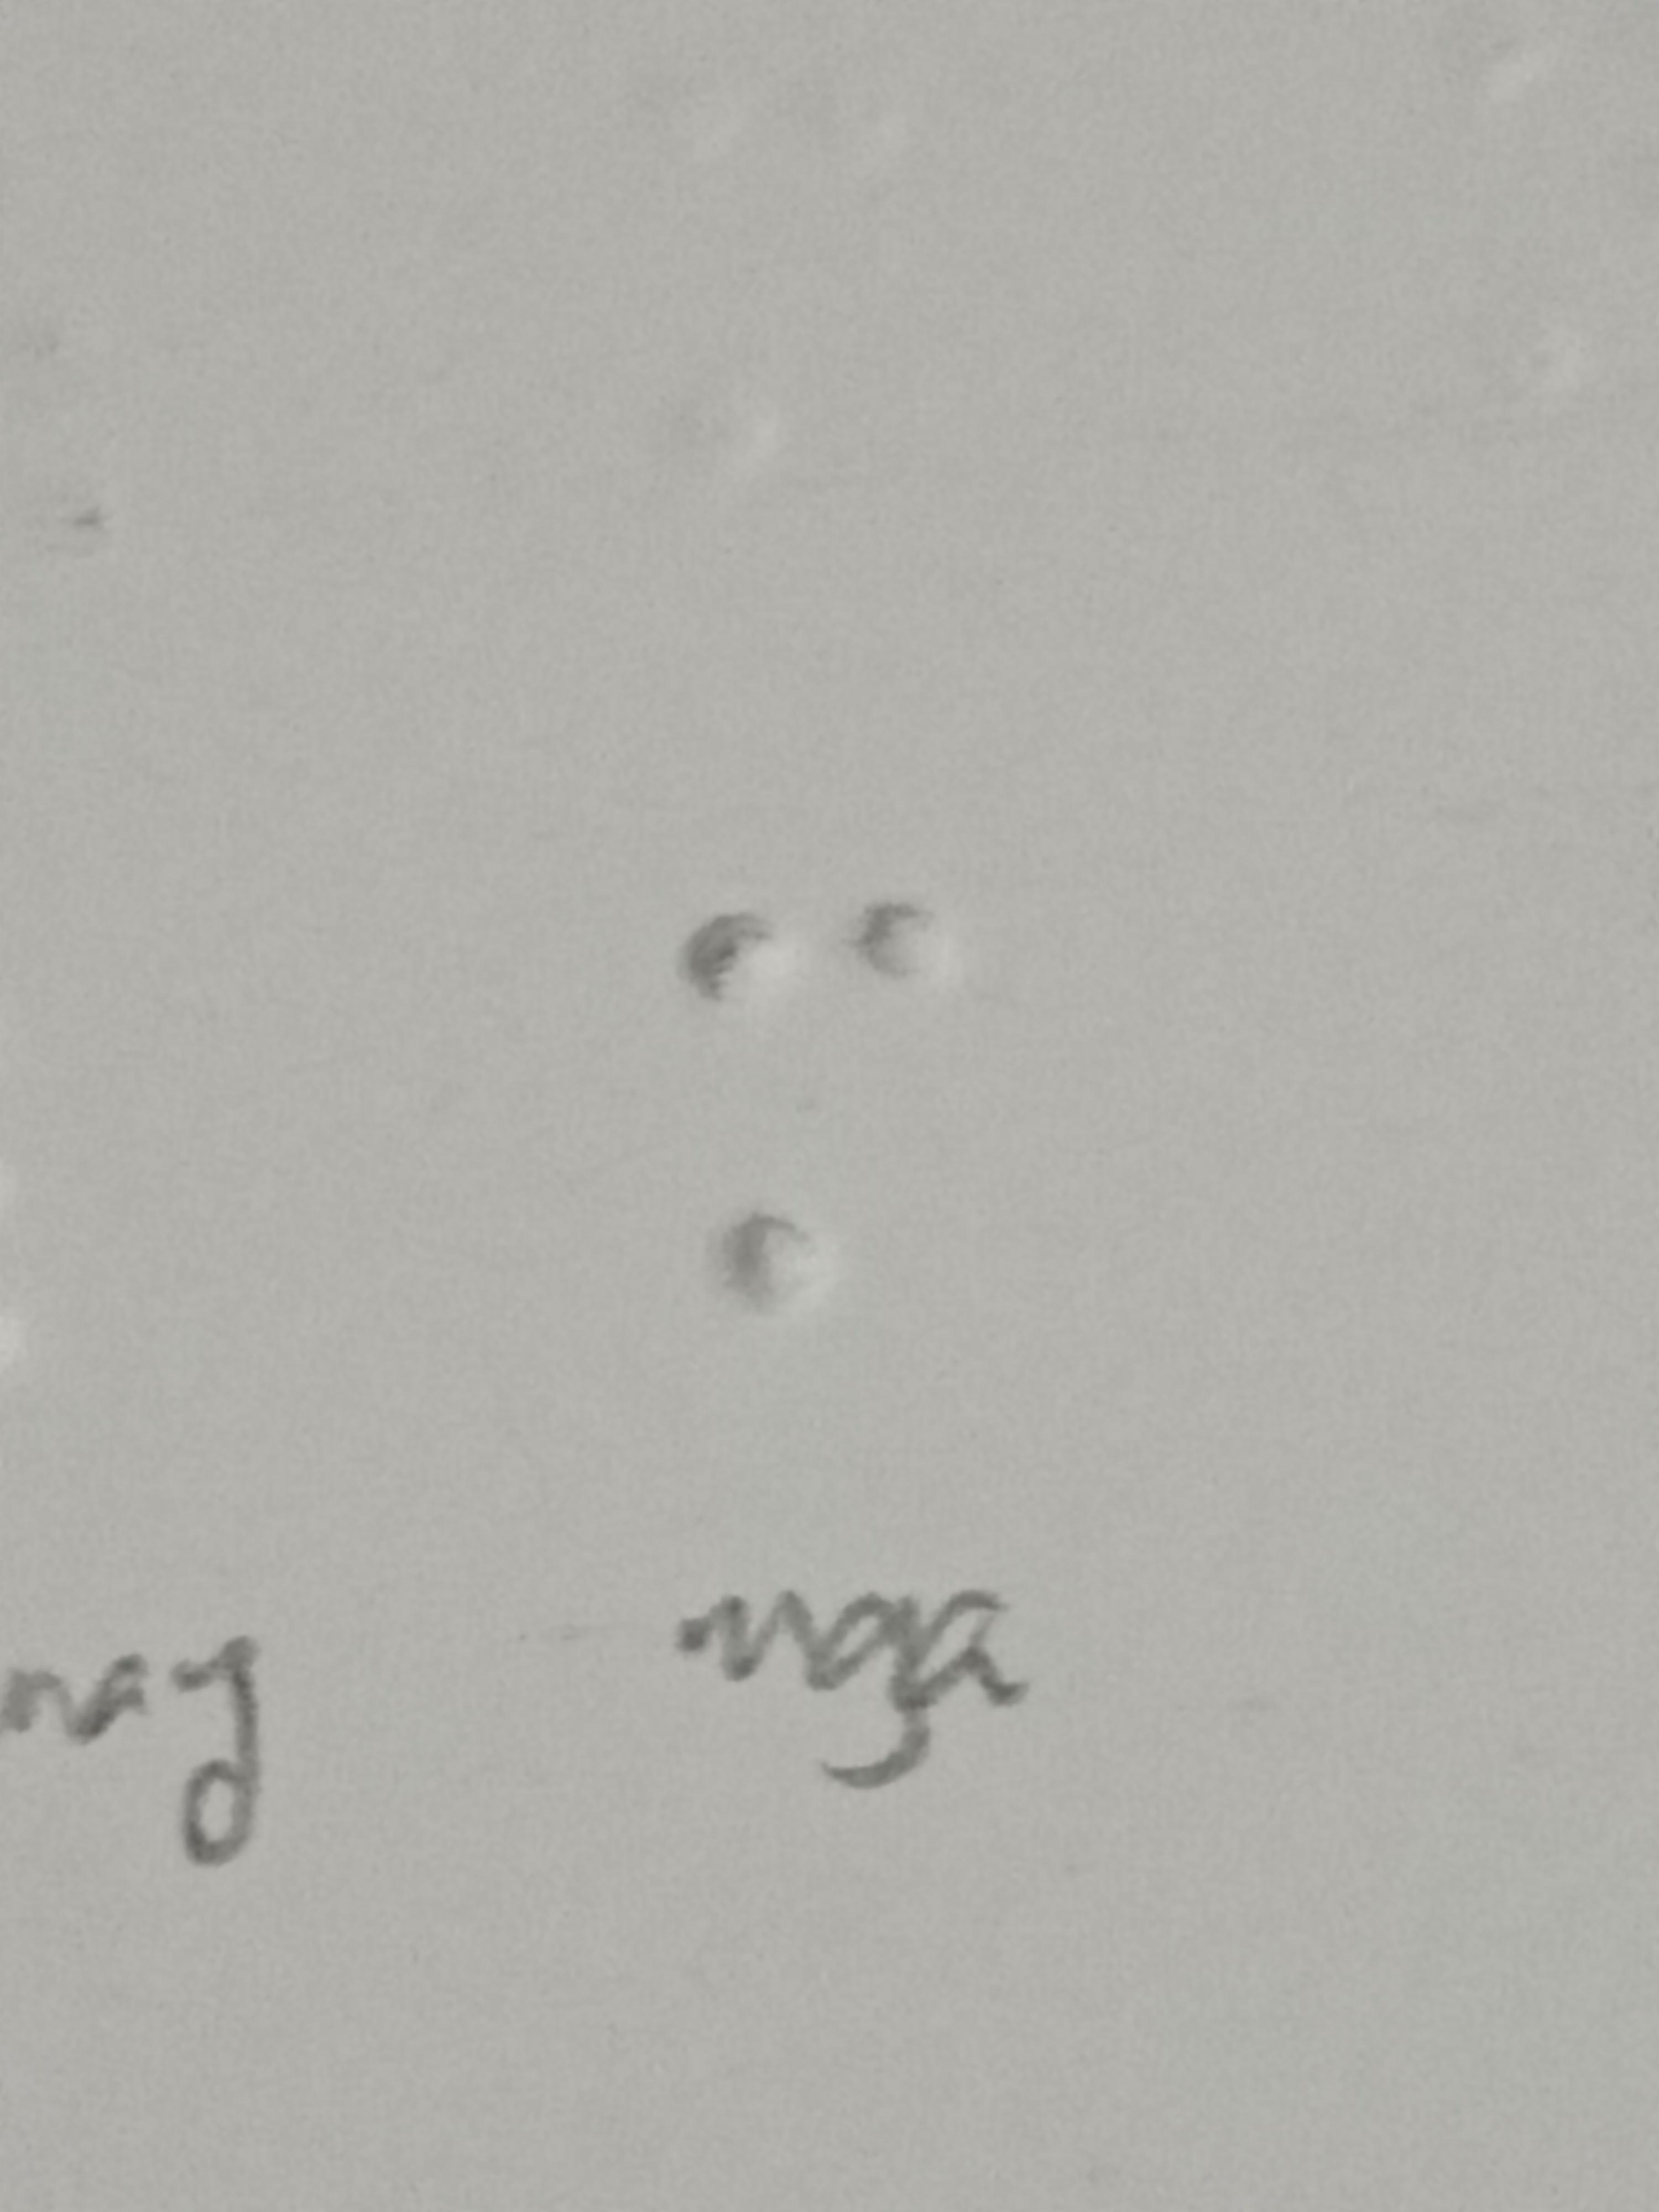one_cell_alphabet_mga: (687, 897, 965, 1313)
